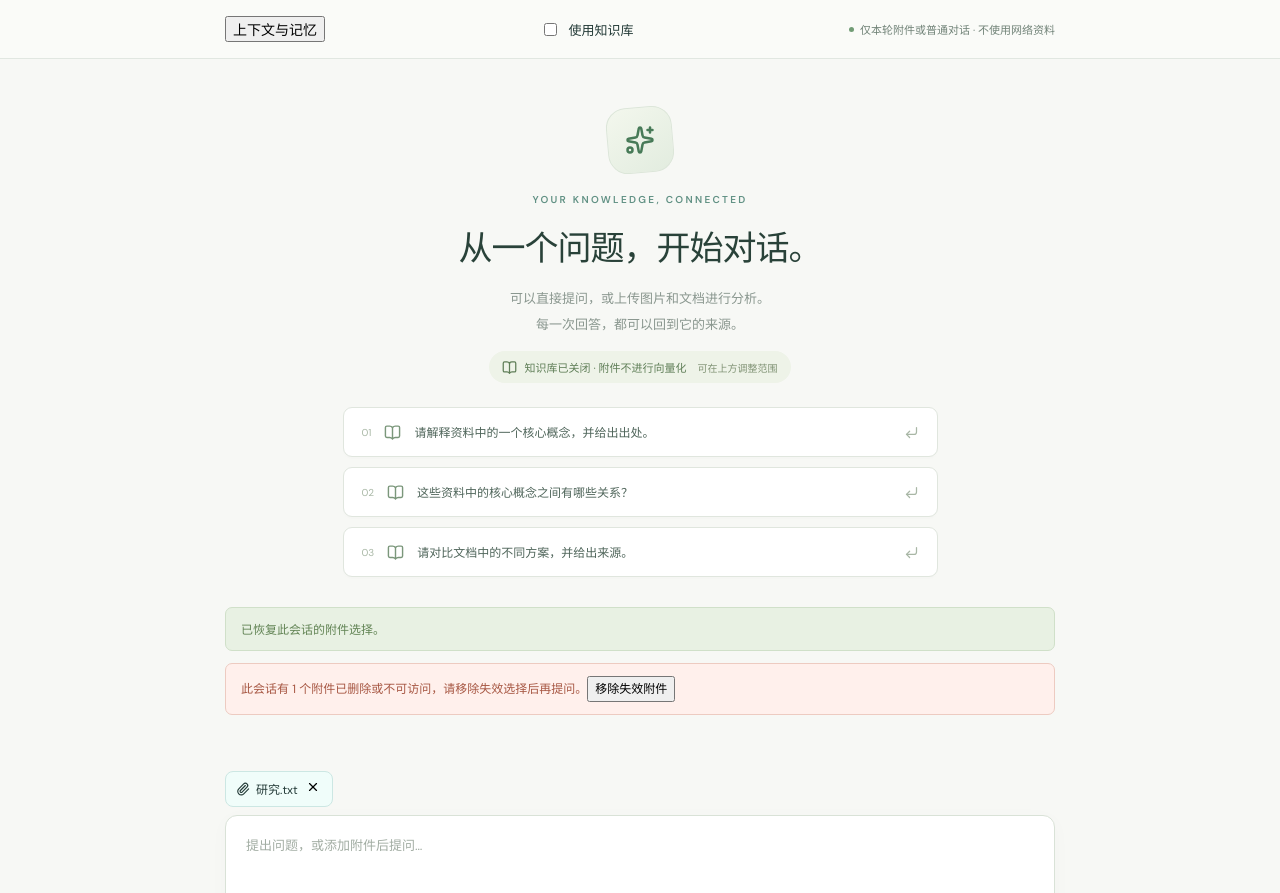
Test: unavailable saved attachments block sending until the user removes them
Expected: the text "此会话有 1 个附件已删除或不可访问，请移除失效选择后再提问。 移除失效附件" is shown, [225,663,1055,715]
Type "追问" into the text box named "输入问题" at (640, 852), box [226,816,1054,888]
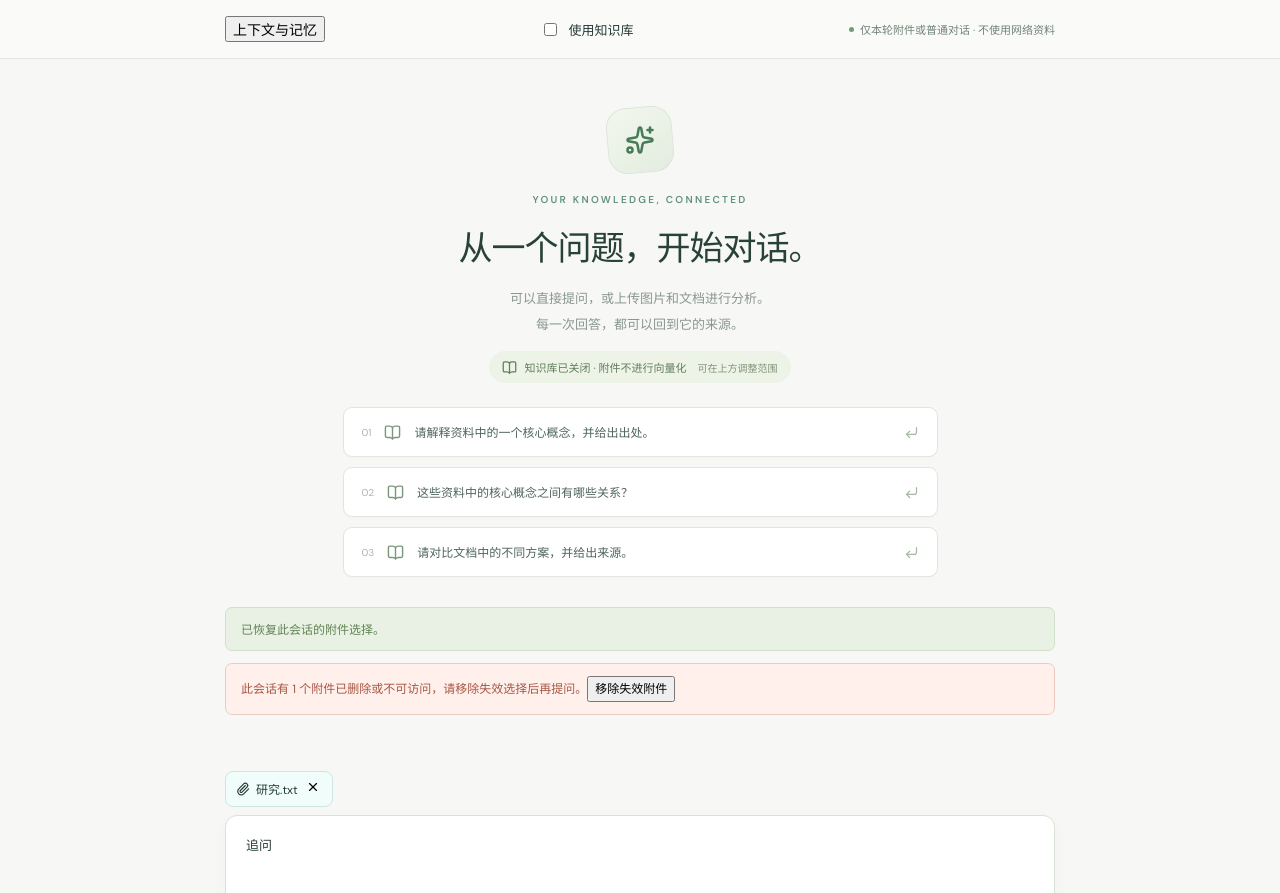
Click the button "移除失效附件" at (631, 689), box [587,676,675,702]
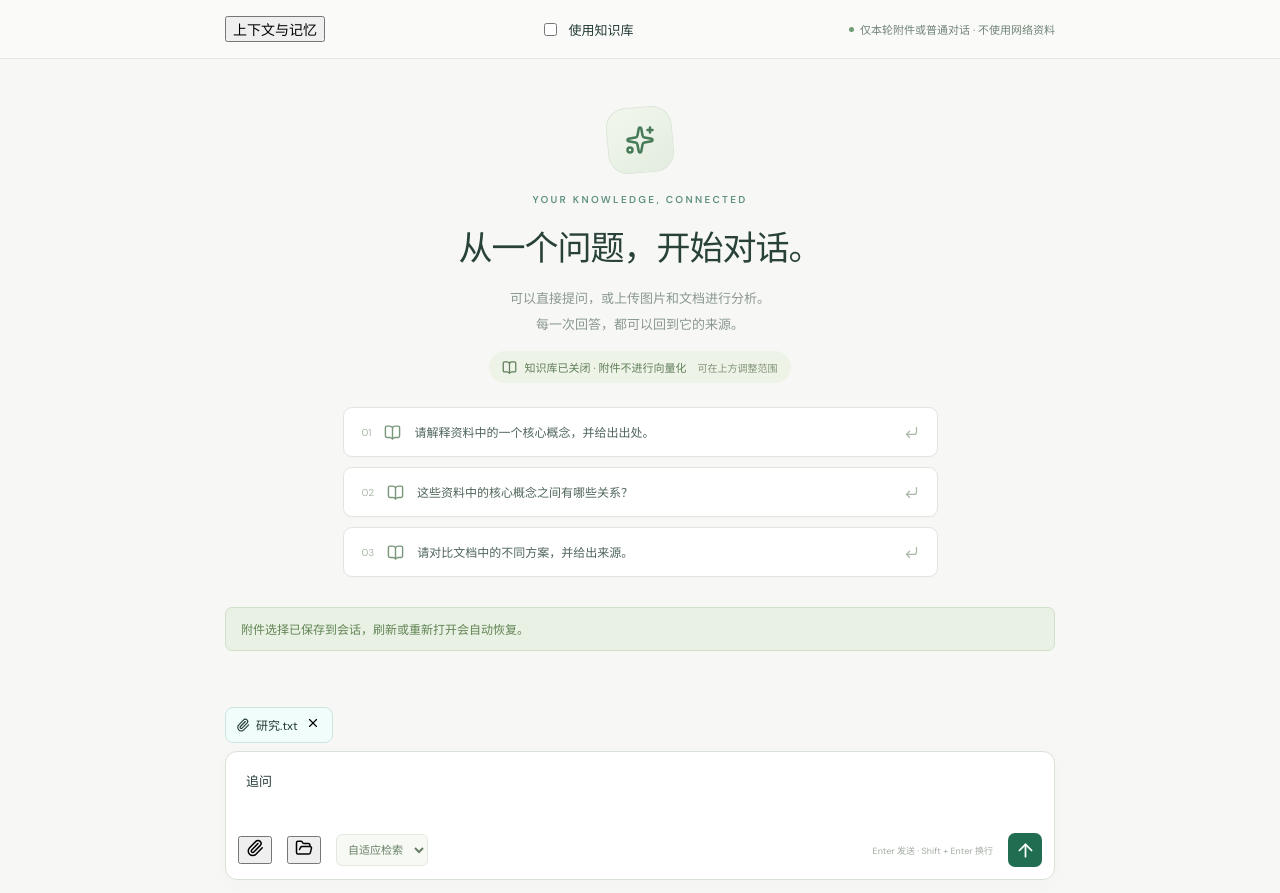
Expected: the text "1 个附件已删除或不可访问" is gone
Expected: the button named "发送问题" is enabled, [1008,833,1042,867]
